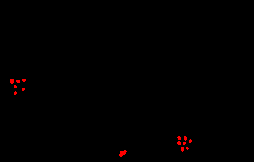Target: (119, 150, 127, 157), (10, 79, 14, 84), (177, 136, 181, 140), (177, 141, 181, 145), (184, 136, 187, 141), (181, 147, 184, 152), (22, 79, 26, 82), (16, 80, 20, 83), (14, 91, 17, 95), (189, 139, 192, 143), (14, 85, 17, 88), (22, 88, 25, 91), (183, 142, 186, 145), (186, 147, 189, 150)
